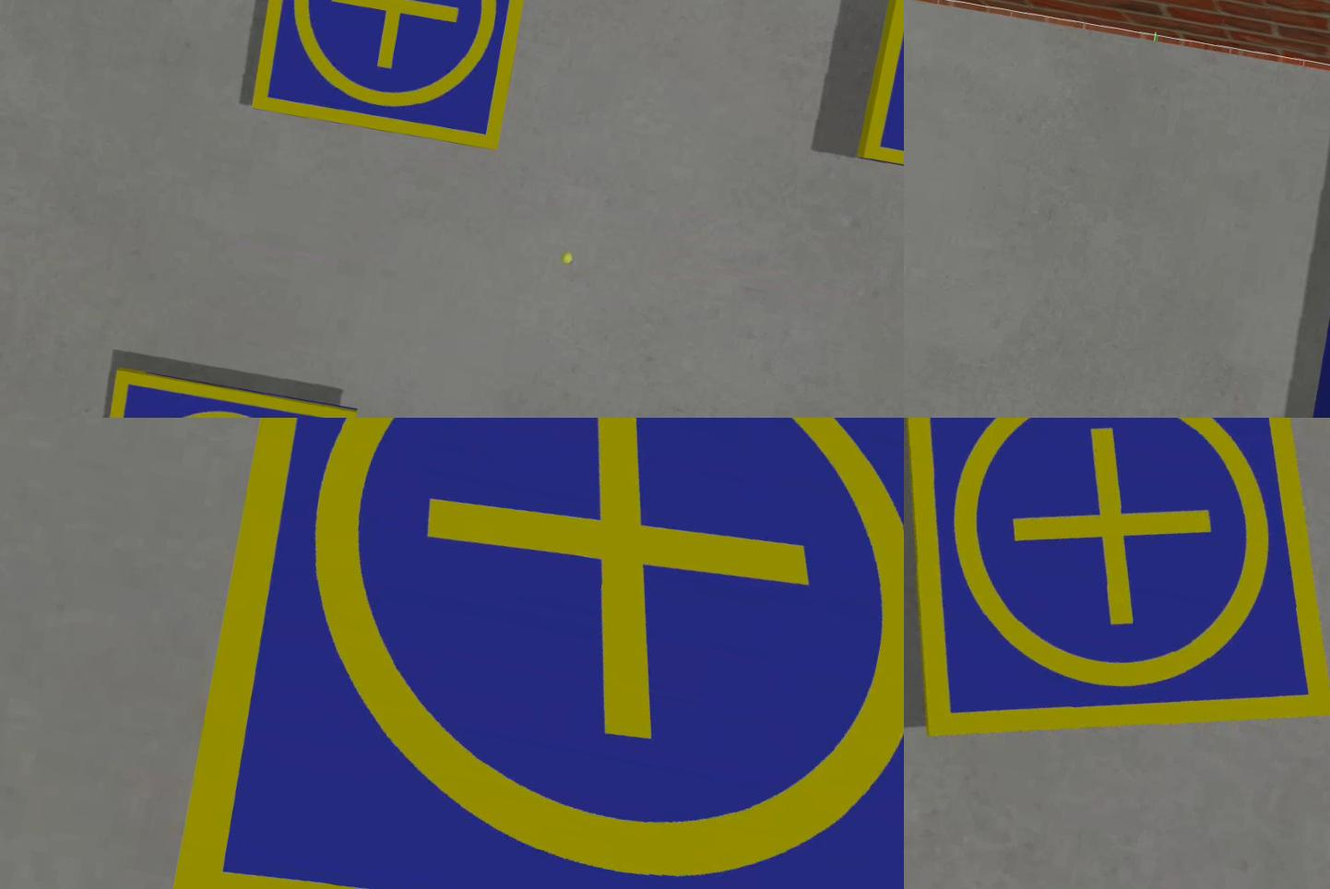small_base: (164, 419, 905, 889), (905, 419, 1330, 818), (244, 1, 551, 156), (85, 361, 361, 419), (861, 1, 905, 190)
